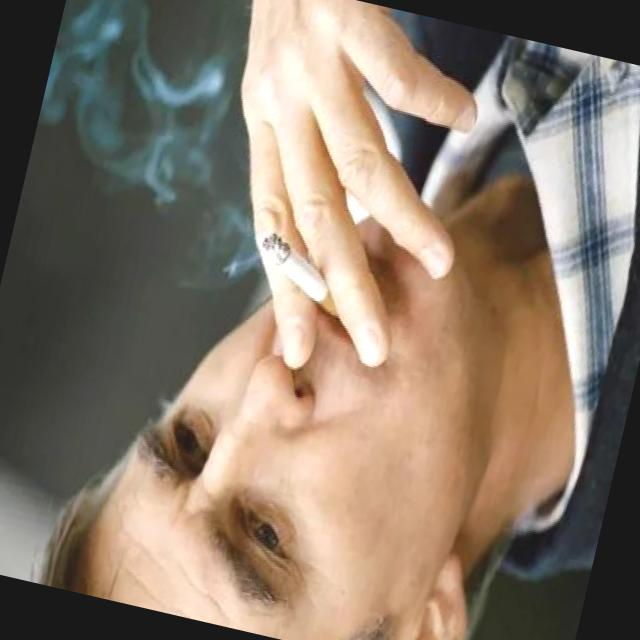smoke: (244, 224, 362, 324)
